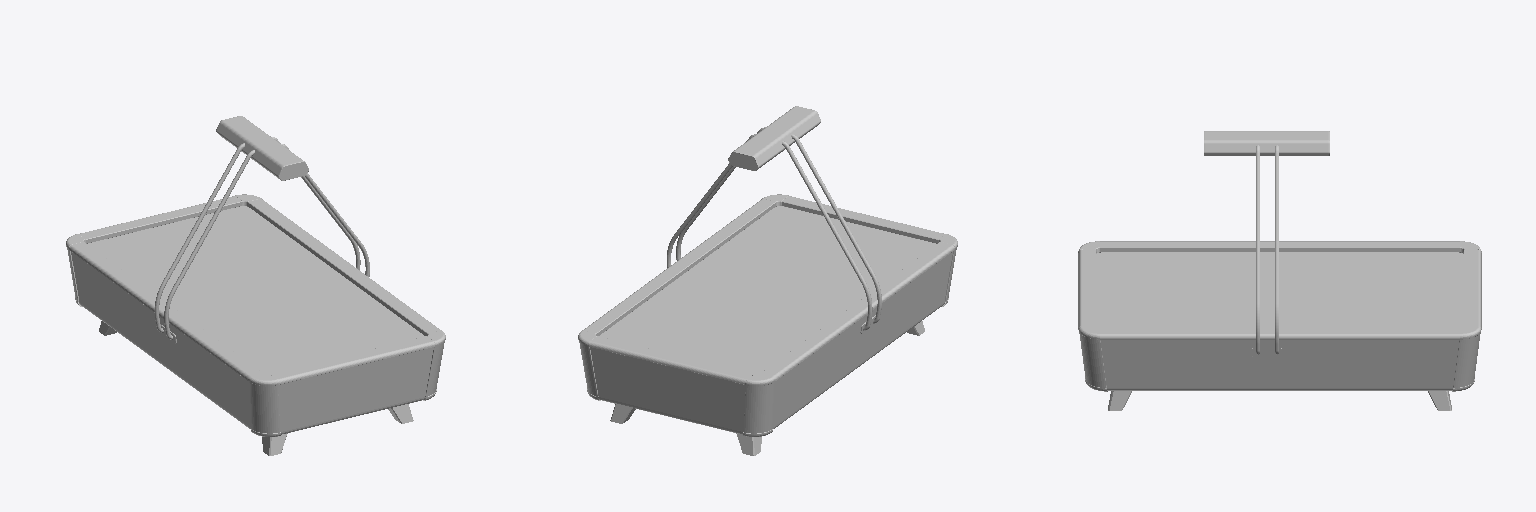
The model's file is hockey.obj.
The picture shows the model from 3 angles: view 1: azimuth 30°, elevation 25°; view 2: azimuth 150°, elevation 25°; view 3: azimuth 270°, elevation 25°; orthographic projection.
Visible parts, largest first — view 1: aerohokey; view 2: aerohokey; view 3: aerohokey.
Part boxes in pixels (x1,y1,x2,y2): aerohokey: (66,116,445,455); aerohokey: (578,106,957,455); aerohokey: (1078,131,1481,410).
Size of the model in its own units: 1313 by 1468 by 2231.